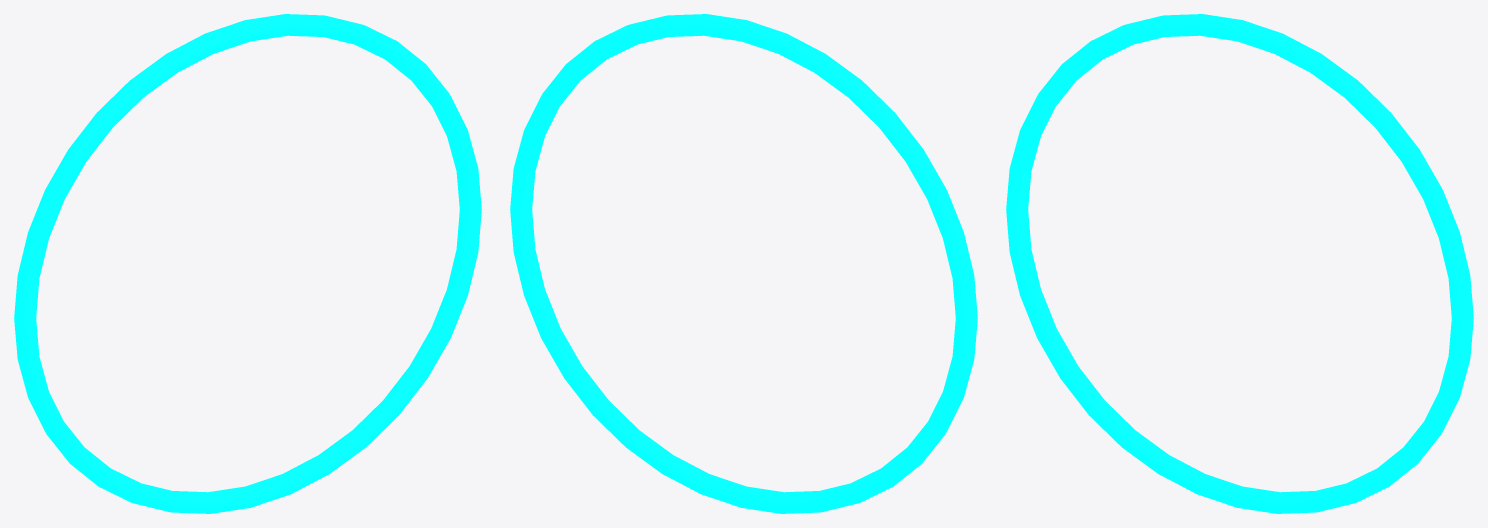
Rendered from locator_ring_geo.glb.
3 renders of one model, left to right at view 1: azimuth 30°, elevation 25°; view 2: azimuth 150°, elevation 25°; view 3: azimuth 330°, elevation 25°, orthographic.
Parts seen in each view (by area): view 1: LocatorRingNode; view 2: LocatorRingNode; view 3: LocatorRingNode.
Boxes of the visible parts, left/top/right/bottom form: LocatorRingNode: left=14, top=14, right=481, bottom=513; LocatorRingNode: left=510, top=14, right=977, bottom=513; LocatorRingNode: left=1006, top=14, right=1473, bottom=513.
Bounding box in the file's own units: 0.73 × 0.73 × 0.03.
